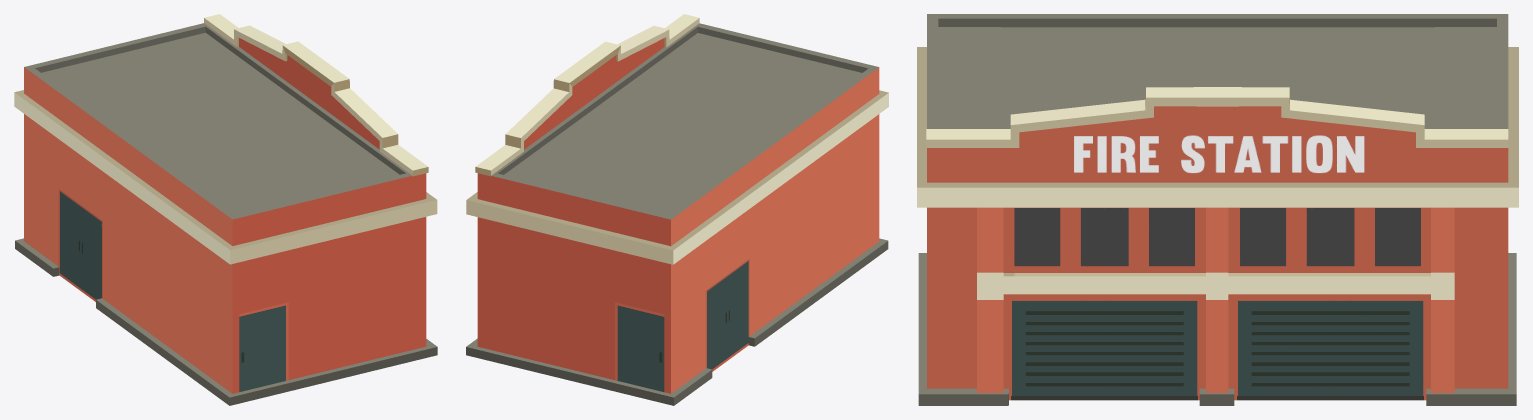
File: fire_station.glb
3 views of the same model, side by side, from view 1: azimuth 30°, elevation 25°; view 2: azimuth 150°, elevation 25°; view 3: azimuth 270°, elevation 25° (orthographic). The views are drawn at different scales.
Visible parts, largest first — view 1: firestation_mesh; view 2: firestation_mesh; view 3: firestation_mesh.
Boxes of the visible parts, bbox=[...] form: firestation_mesh: bbox=[14, 14, 437, 405]; firestation_mesh: bbox=[466, 14, 888, 405]; firestation_mesh: bbox=[917, 14, 1518, 405].
Bounding box in the file's own units: 0.1327 × 0.1329 × 0.2385.
1 material, 1 textured.
